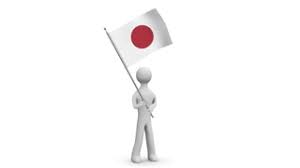Japanese Flag: (108, 8, 178, 69)
